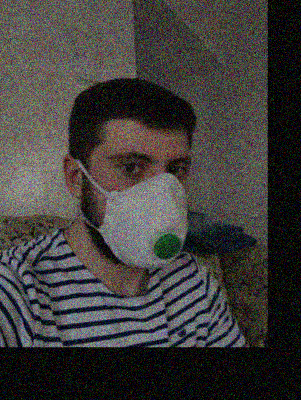with_mask: (98, 138, 188, 270)
